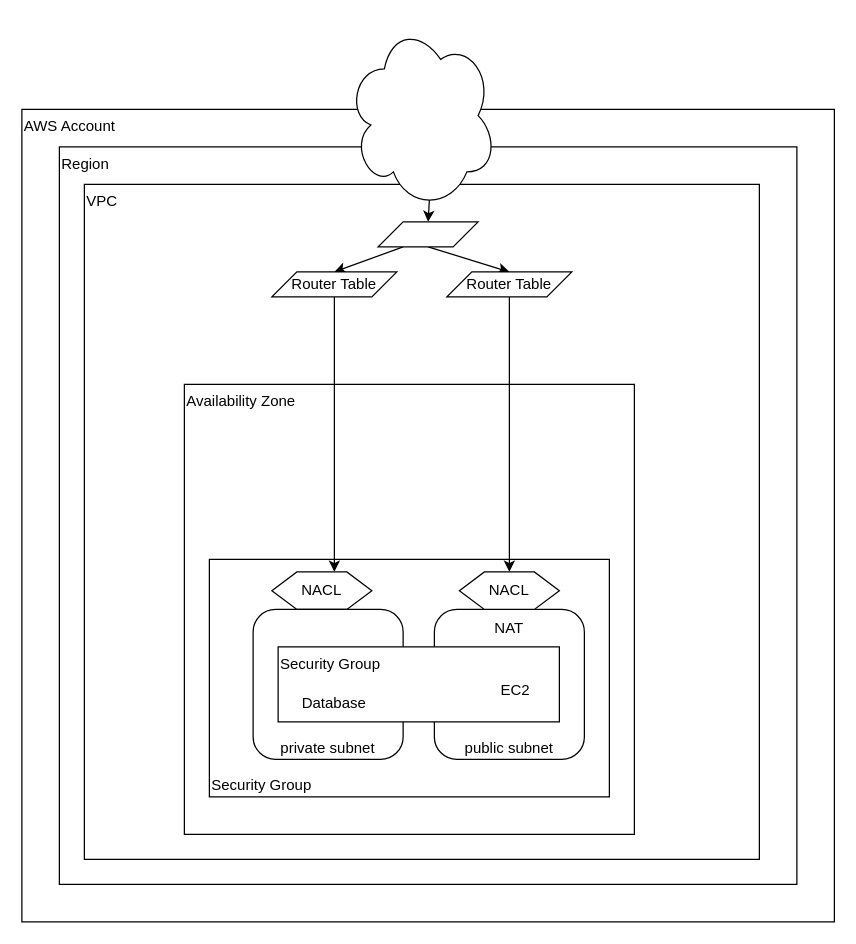
The diagram is 856 pixels wide and 944 high, and some of its shapes have lost their labels. Here are the shapes that lost their labels. From the top down, the centre of each, then its label:
At point 421,115: "Internet Gateway".
At point 427,234: "Router".
